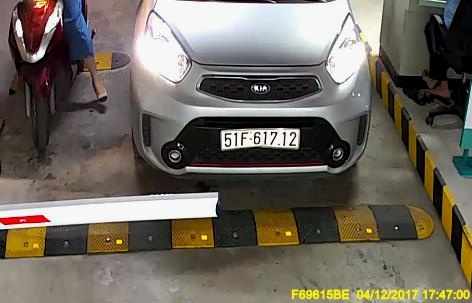plate: (218, 124, 299, 154)
